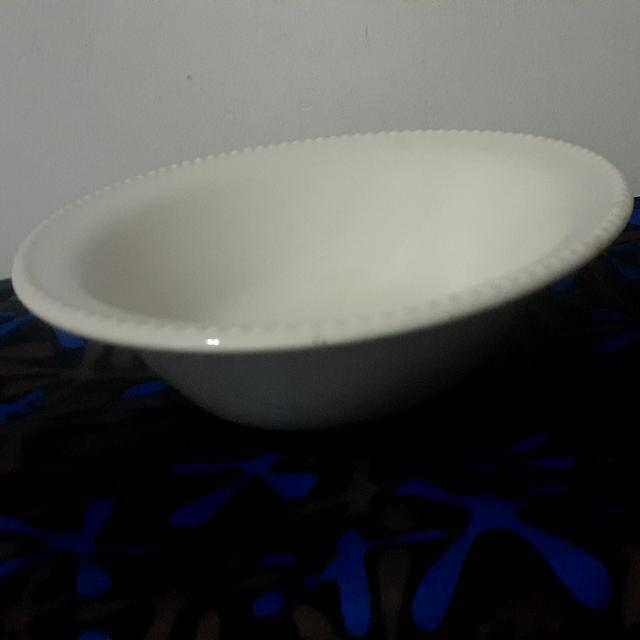ceramic plate: (6, 128, 640, 404)
